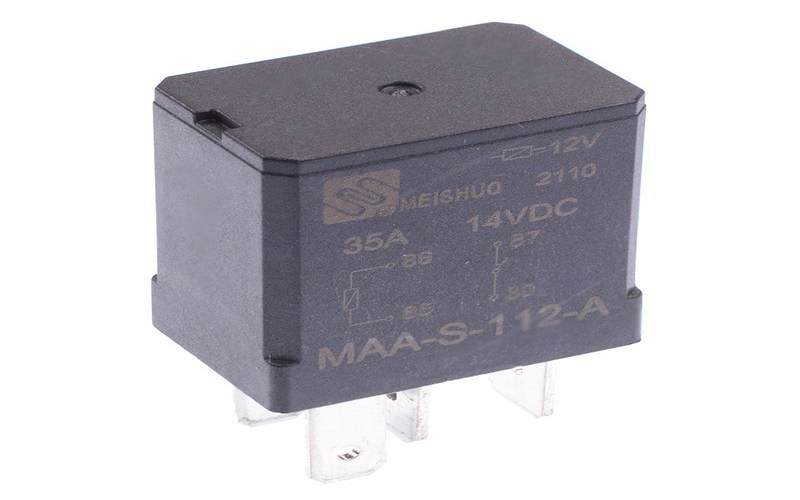Switches: (131, 14, 670, 500)
